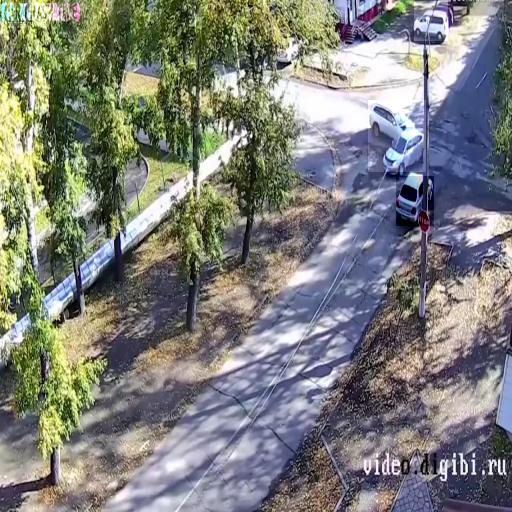小汽车: (396, 176, 434, 226), (414, 1, 448, 41)
小汽车撞小汽车: (368, 100, 426, 172)
